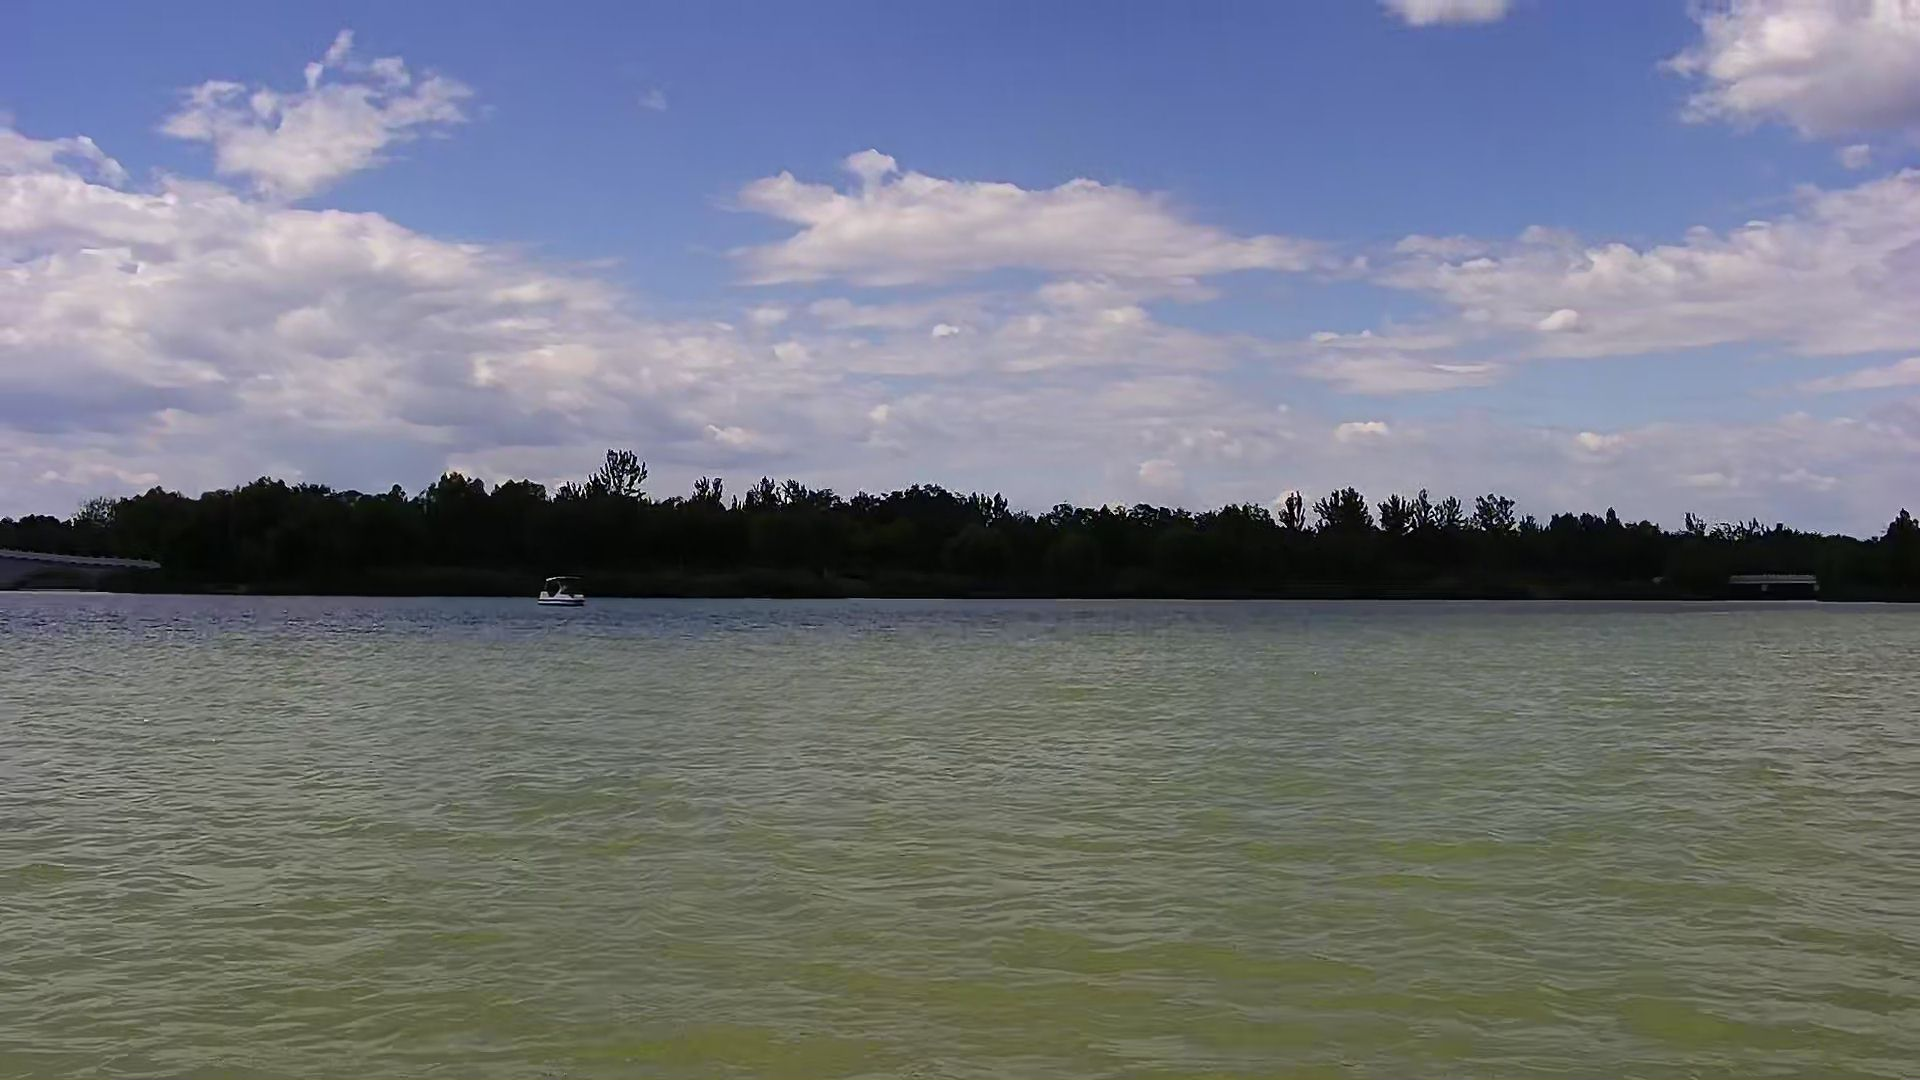boat: (530, 566, 604, 615)
